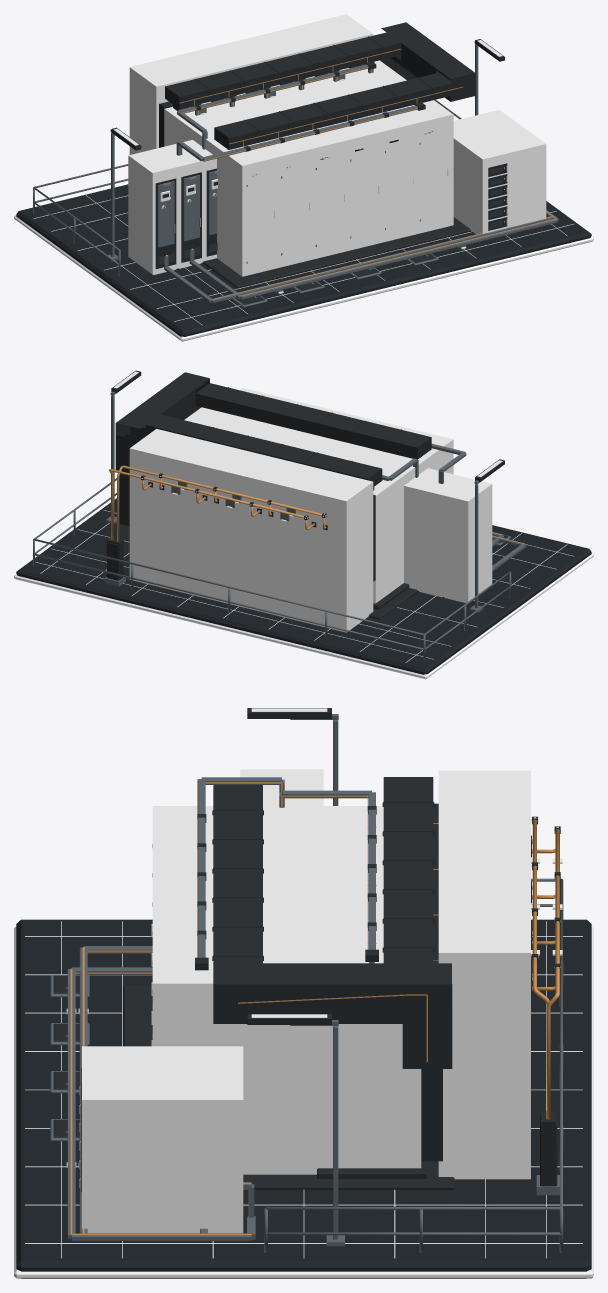
The model's file is facility.glb.
3 views of the same model, one above another, from view 1: azimuth 30°, elevation 25°; view 2: azimuth 150°, elevation 25°; view 3: azimuth 270°, elevation 25° (orthographic). The views are drawn at different scales.
Parts seen in each view (by area): view 1: GN_PICK_WORKLOADS, GN_PLATFORM_Platform, GN_PICK_STORAGE, GN_AIR_SECTION_COVERS_Graphite, GN_PICK_COOLING, GN_COOLING_Graphite, GN_PICK_POWER, GN_POWER_Steel, GN_PLATFORM_Dark, GN_PLATFORM_Graphite, GN_STORAGE_Steel, GN_PLATFORM_Steel (+7 smaller); view 2: GN_PICK_COOLING, GN_PLATFORM_Platform, GN_PICK_POWER, GN_PICK_WORKLOADS, GN_AIR_SECTION_COVERS_Graphite, GN_COOLING_Graphite, GN_PLATFORM_Steel, GN_PLATFORM_Dark, GN_ACCENT_COOLING_Copper, GN_PLATFORM_Graphite, GN_POWER_Steel, GN_COOLING_Steel (+1 smaller); view 3: GN_PLATFORM_Platform, GN_PICK_WORKLOADS, GN_PICK_COOLING, GN_PICK_STORAGE, GN_AIR_SECTION_COVERS_Graphite, GN_COOLING_Graphite, GN_PLATFORM_Dark, GN_PLATFORM_Graphite, GN_PLATFORM_Steel, GN_STORAGE_Steel, GN_POWER_Steel, GN_ACCENT_COOLING_Copper (+2 smaller).
Part boxes in pixels (x1,y1,x2,y2): GN_PICK_WORKLOADS: [164, 60, 453, 276]; GN_PLATFORM_Platform: [16, 184, 591, 336]; GN_PICK_STORAGE: [453, 109, 546, 234]; GN_AIR_SECTION_COVERS_Graphite: [164, 22, 474, 137]; GN_PICK_COOLING: [129, 14, 373, 154]; GN_COOLING_Graphite: [159, 43, 475, 149]; GN_PICK_POWER: [128, 140, 216, 274]; GN_POWER_Steel: [158, 64, 417, 247]; GN_PLATFORM_Dark: [14, 40, 593, 341]; GN_PLATFORM_Graphite: [111, 39, 504, 304]; GN_STORAGE_Steel: [164, 210, 558, 303]; GN_PLATFORM_Steel: [33, 41, 478, 307]; GN_PICK_COOLING: [129, 429, 373, 632]; GN_PLATFORM_Platform: [16, 498, 591, 674]; GN_PICK_POWER: [404, 468, 492, 602]; GN_PICK_WORKLOADS: [195, 388, 453, 603]; GN_AIR_SECTION_COVERS_Graphite: [116, 372, 431, 478]; GN_COOLING_Graphite: [106, 378, 431, 581]; GN_PLATFORM_Steel: [33, 391, 511, 660]; GN_PLATFORM_Dark: [14, 371, 593, 679]; GN_ACCENT_COOLING_Copper: [109, 465, 325, 541]; GN_PLATFORM_Graphite: [111, 370, 508, 619]; GN_POWER_Steel: [382, 443, 466, 483]; GN_COOLING_Steel: [104, 481, 295, 586]; GN_PLATFORM_Platform: [16, 919, 591, 1278]; GN_PICK_WORKLOADS: [152, 806, 421, 1174]; GN_PICK_COOLING: [438, 770, 530, 1179]; GN_PICK_STORAGE: [82, 1046, 243, 1233]; GN_AIR_SECTION_COVERS_Graphite: [212, 777, 451, 1160]; GN_COOLING_Graphite: [213, 777, 560, 1186]; GN_PLATFORM_Dark: [14, 708, 593, 1278]; GN_PLATFORM_Graphite: [53, 708, 454, 1189]; GN_PLATFORM_Steel: [50, 714, 563, 1252]; GN_STORAGE_Steel: [67, 946, 255, 1240]; GN_POWER_Steel: [197, 777, 375, 957]; GN_ACCENT_COOLING_Copper: [238, 820, 559, 1119].
Bounding box in the file's own units: 10.86 × 3.59 × 7.66.
8 materials, 8 textured.
